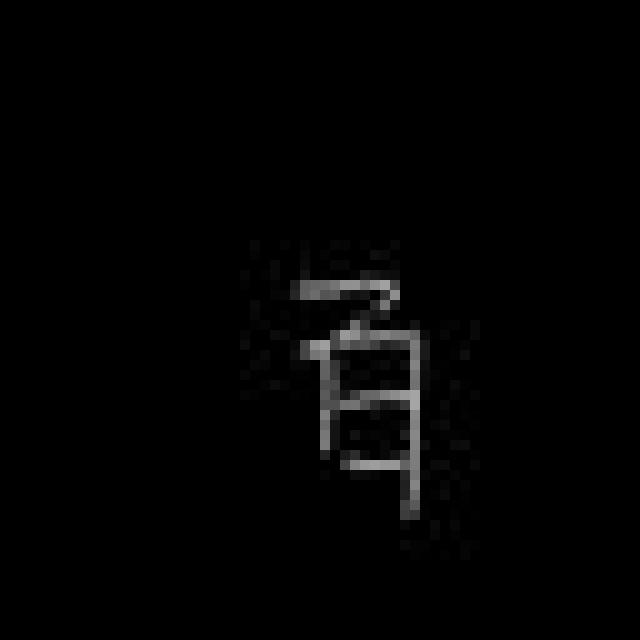100 -a hundred-: (282, 270, 433, 530)
